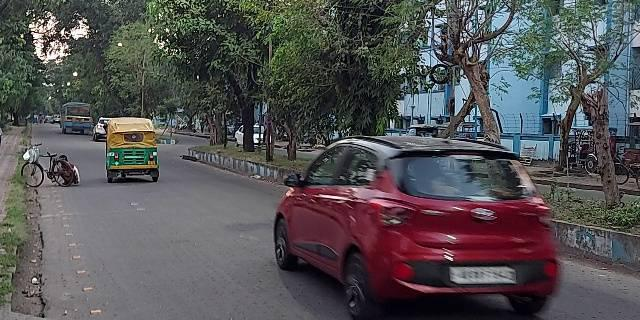Autorickshaw: (104, 117, 164, 185)
Car: (268, 127, 568, 309)
Cycle: (20, 150, 78, 187)
